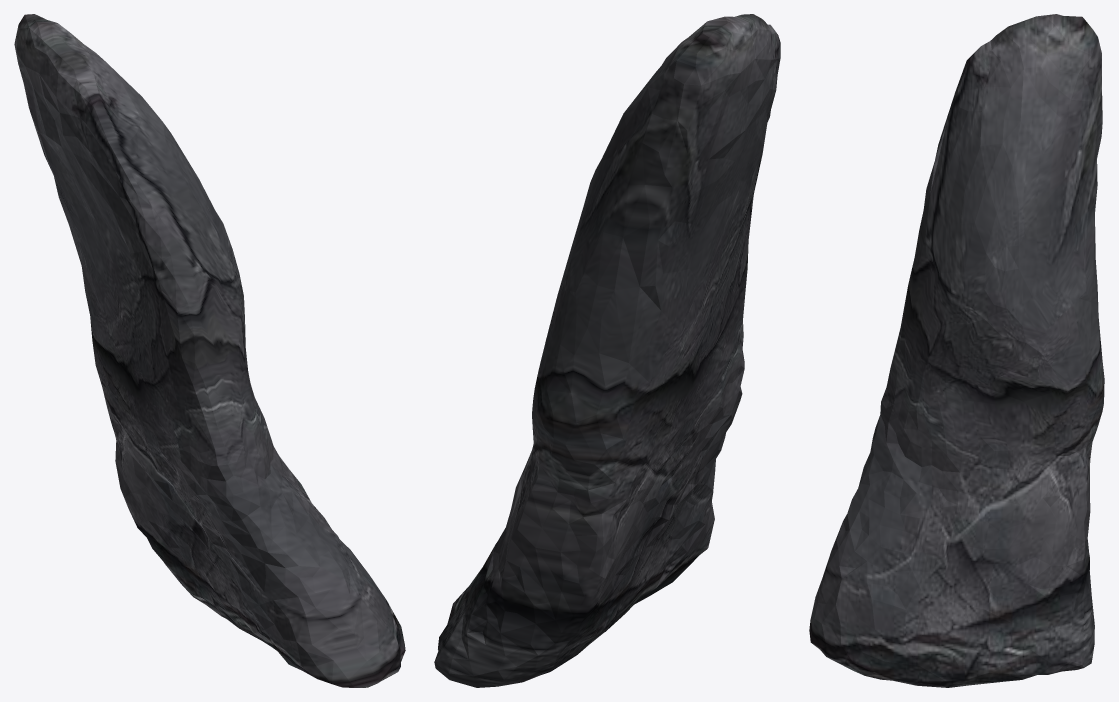
Rendered from BIGrock3.fbx.
The picture shows the model from 3 angles, left to right: view 1: azimuth 30°, elevation 25°; view 2: azimuth 150°, elevation 25°; view 3: azimuth 270°, elevation 25°; orthographic projection. The views are drawn at different scales.
Parts seen in each view (by area): view 1: rock.006; view 2: rock.006; view 3: rock.006.
Boxes of the visible parts, <box> form: rock.006: <box>14,14,405,687</box>; rock.006: <box>434,14,780,687</box>; rock.006: <box>809,14,1104,687</box>.
Bounding box in the file's own units: 866 × 1779 × 849.
